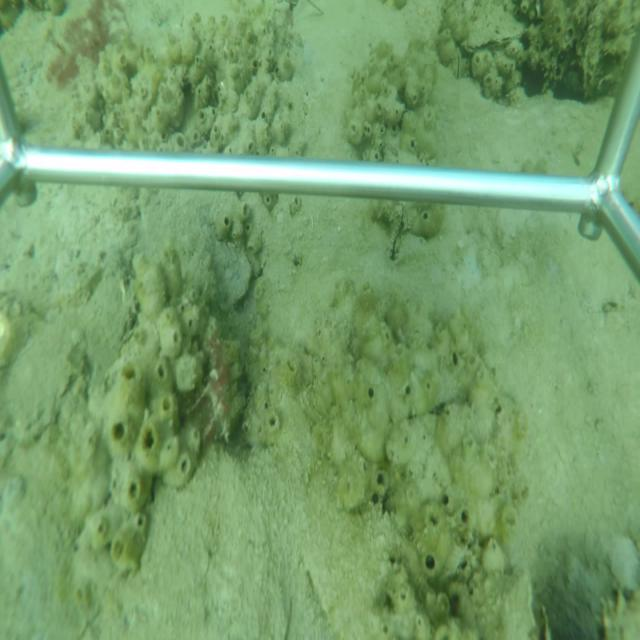Oyster-Closed: (463, 4, 527, 52)
Oyster-Indeterminate: (210, 229, 254, 316)
